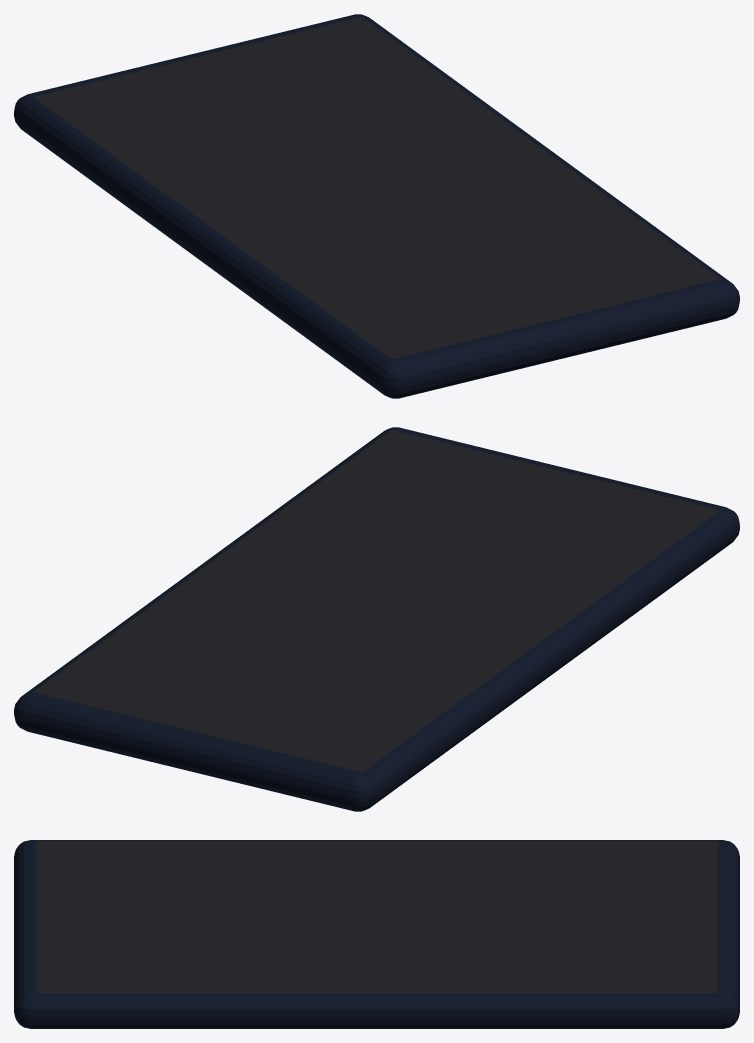
The model's file is Phone_851.glb.
3 renders of one model, top to bottom at view 1: azimuth 30°, elevation 25°; view 2: azimuth 150°, elevation 25°; view 3: azimuth 270°, elevation 25°, orthographic. The views are drawn at different scales.
Parts seen in each view (by area): view 1: Phone_Screen, Phone_Body; view 2: Phone_Screen, Phone_Body; view 3: Phone_Screen, Phone_Body.
Part boxes in pixels (x1=…): Phone_Screen: x1=33, y1=17, x2=720, y2=359; Phone_Body: x1=14, y1=14, x2=739, y2=398; Phone_Screen: x1=33, y1=430, x2=720, y2=772; Phone_Body: x1=14, y1=427, x2=739, y2=811; Phone_Screen: x1=35, y1=840, x2=718, y2=993; Phone_Body: x1=14, y1=840, x2=739, y2=1028.
Size of the model in its own units: 0.0777 by 0.0075 by 0.1435.
